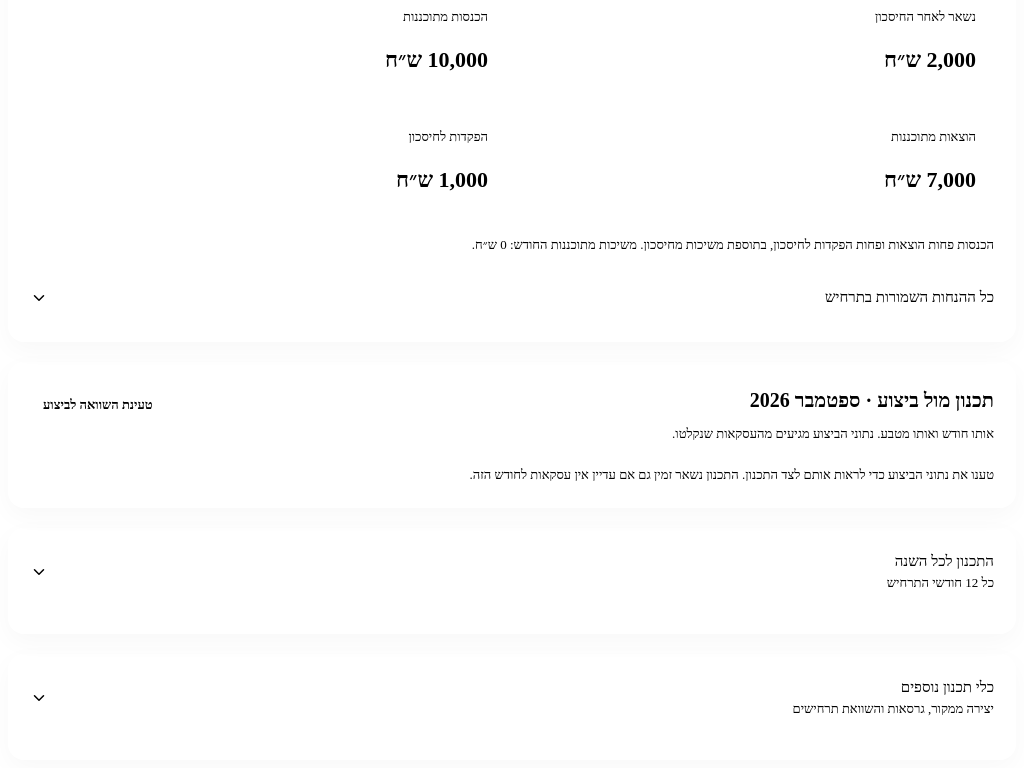
it: Planning feature presentation › does not reload the scenario when toggling comparison choices
(page scrolled)
Step 1. Click the heading "כלי תכנון נוספים יצירה ממקור, גרסאות והשוואת תרחישים" → x=947, y=687, box [30,676,994,720]
(page scrolled)
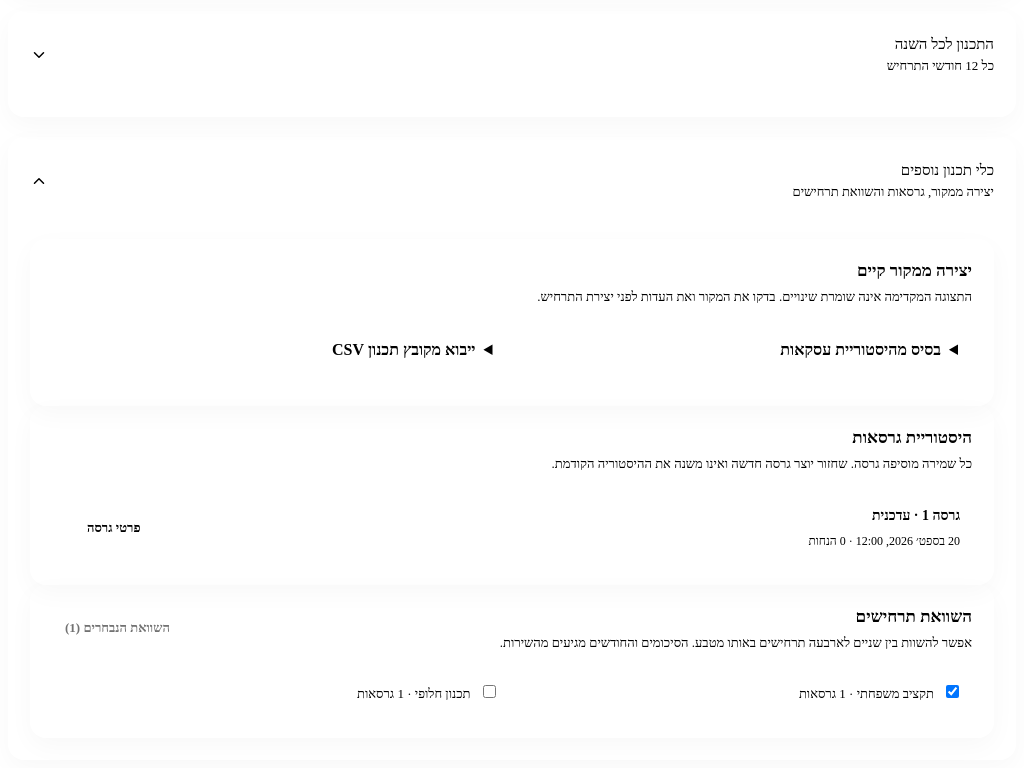
Step 2. Click the checkbox labelled "תכנון חלופי · 1 גרסאות" → x=489, y=692, box [482,685,496,698]
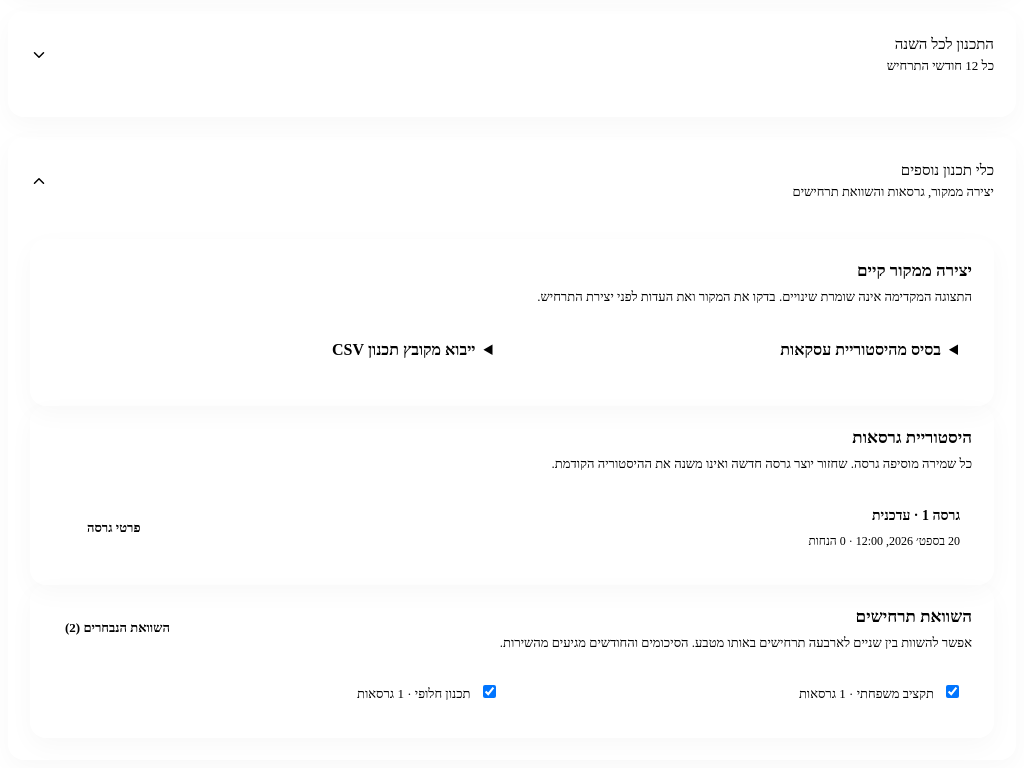
Now the button "השוואת הנבחרים (2)" is enabled, box [52,607,183,649]
